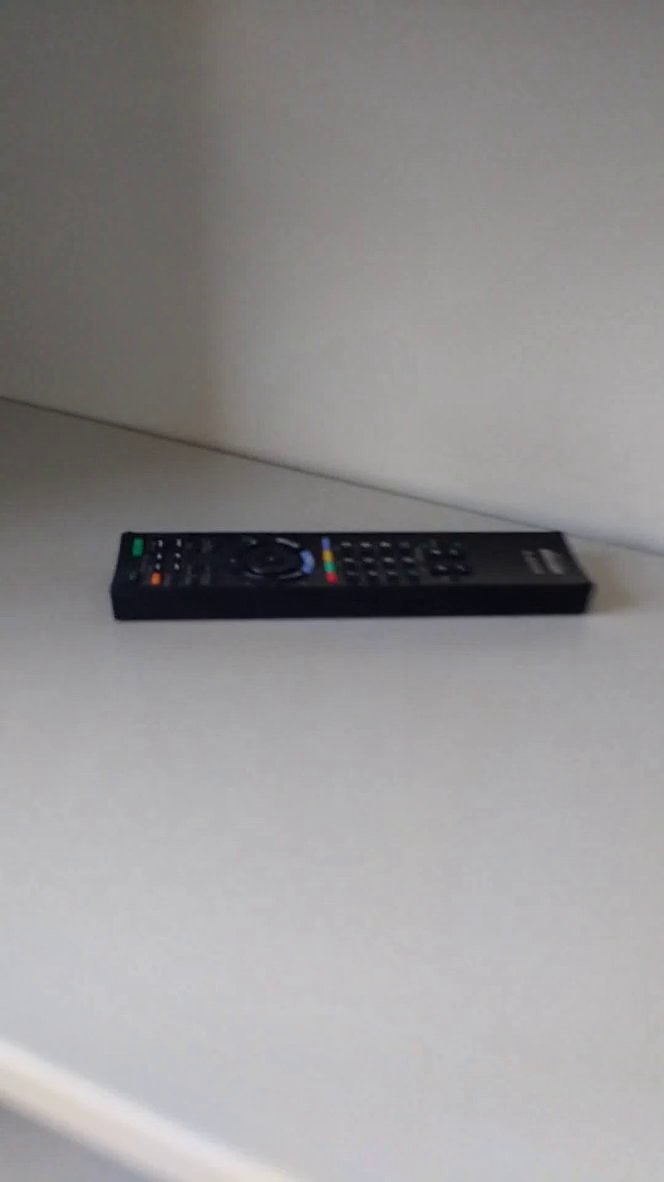remote: (82, 497, 615, 657)
